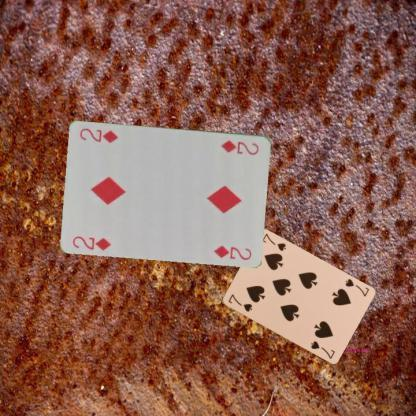2d: (70, 233, 112, 252), (219, 138, 261, 156)
7s: (342, 276, 370, 298), (225, 291, 252, 313)
